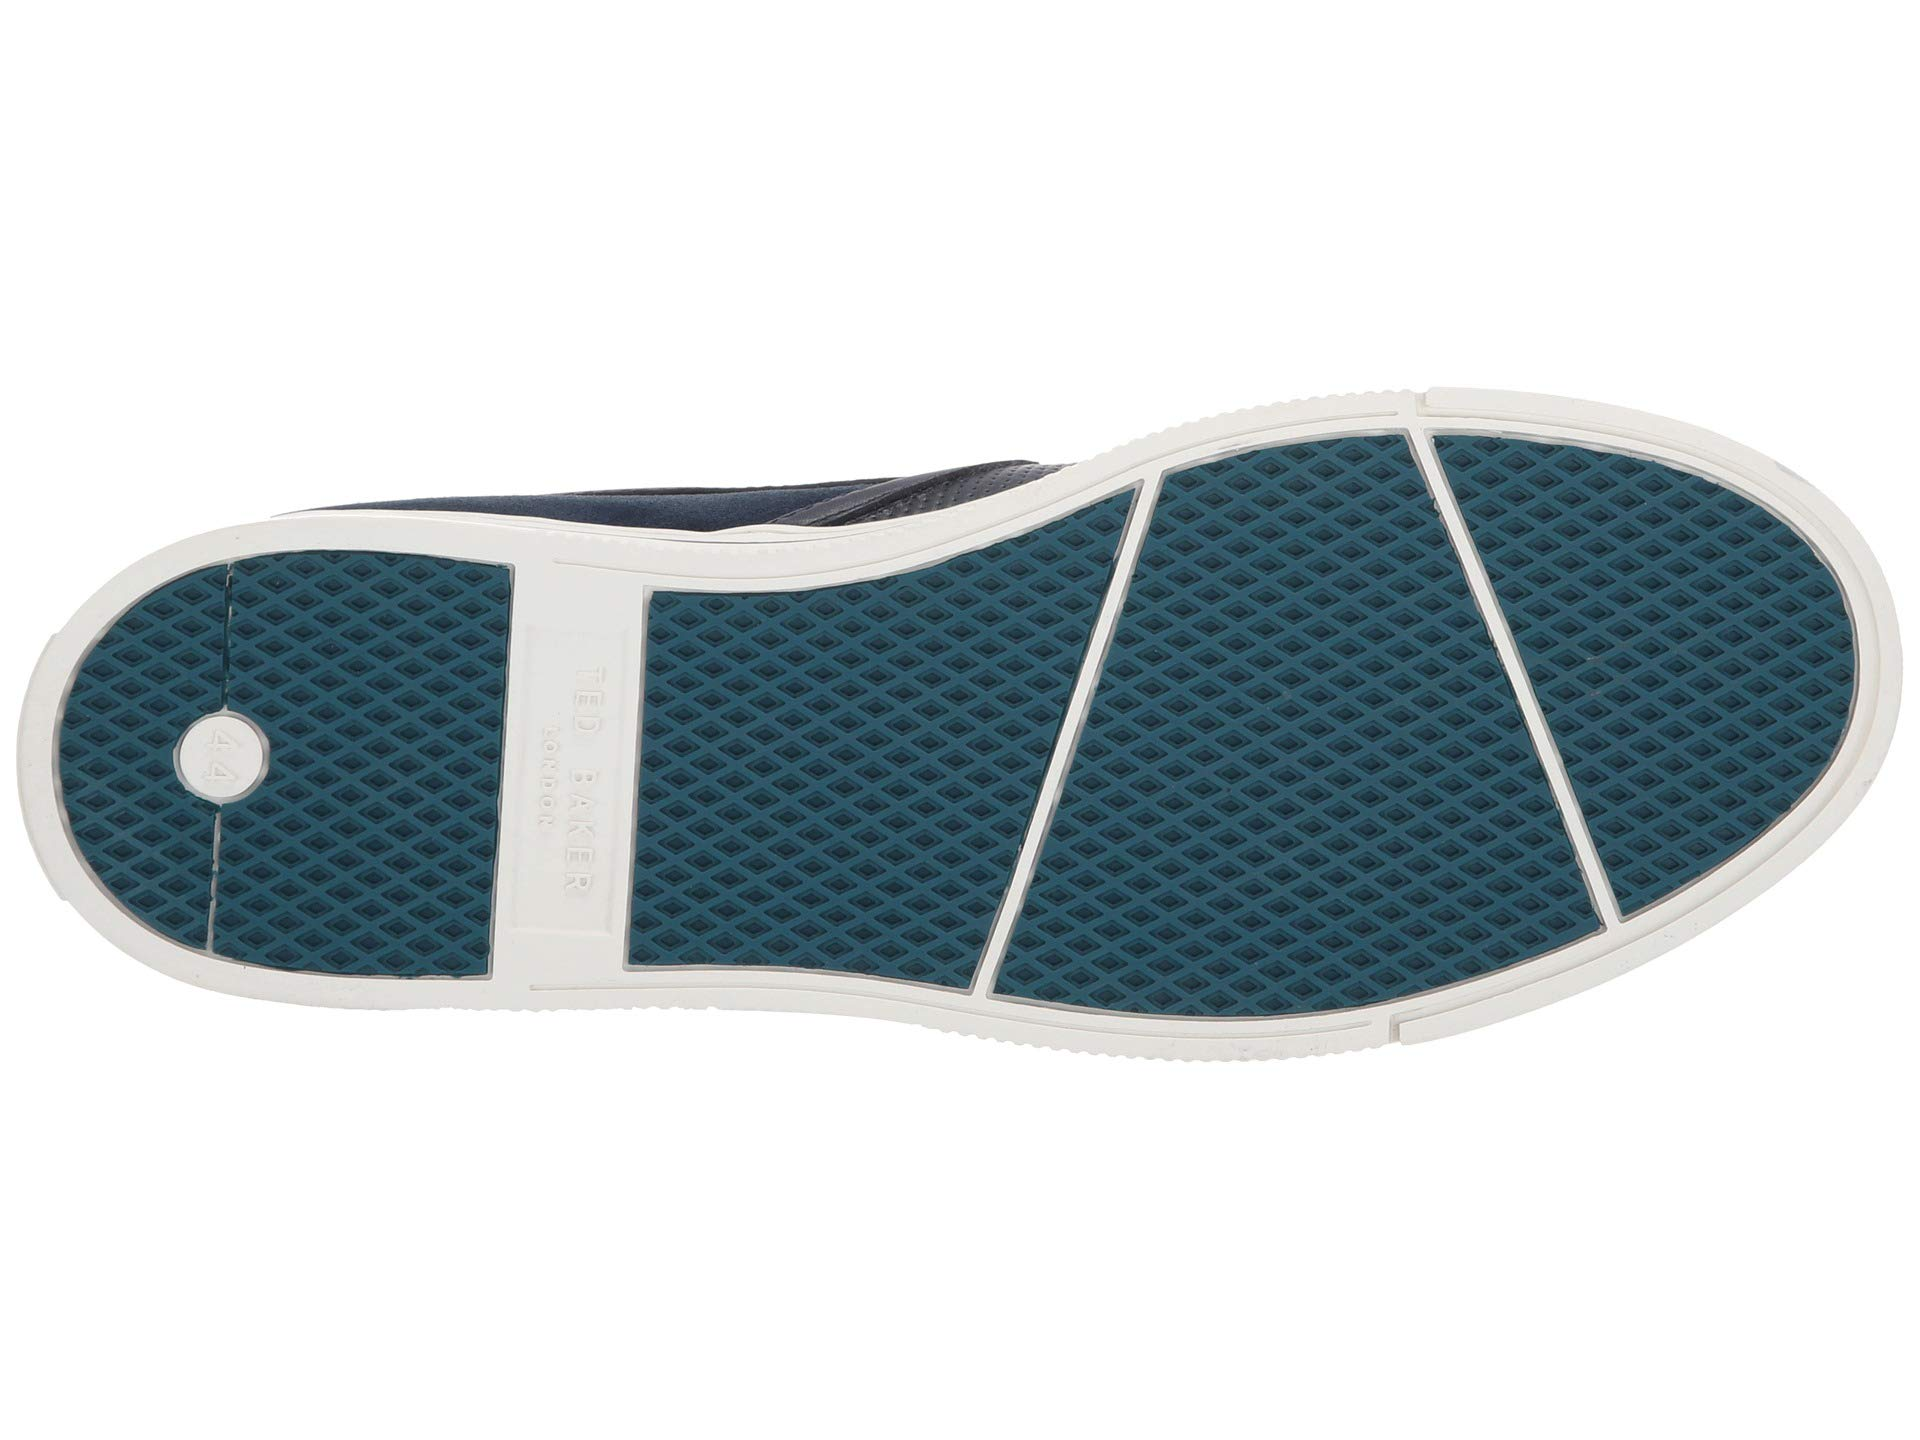circle: (169, 708, 278, 808)
quad: (677, 551, 1101, 967)
text: (526, 664, 614, 895)
